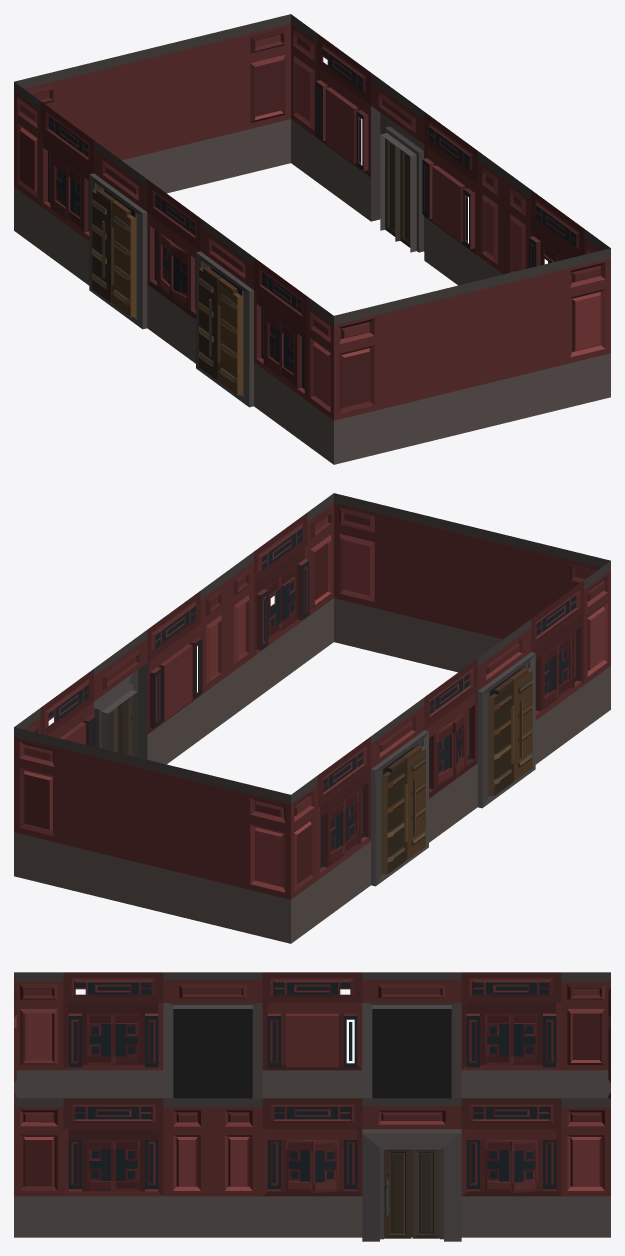
The model's file is BuildingA-Ext_A.fbx.
3 renders of one model, top to bottom at view 1: azimuth 30°, elevation 25°; view 2: azimuth 150°, elevation 25°; view 3: azimuth 270°, elevation 25°, orthographic. The views are drawn at different scales.
Parts seen in each view (by area): view 1: BuildingA-Ext_A; view 2: BuildingA-Ext_A; view 3: BuildingA-Ext_A.
Part boxes in pixels (box(x1,y1,x2,y2)): BuildingA-Ext_A: box(14, 14, 610, 464); BuildingA-Ext_A: box(14, 493, 610, 943); BuildingA-Ext_A: box(14, 972, 610, 1241).
Bounding box in the file's own units: 812 × 386 × 1500.
